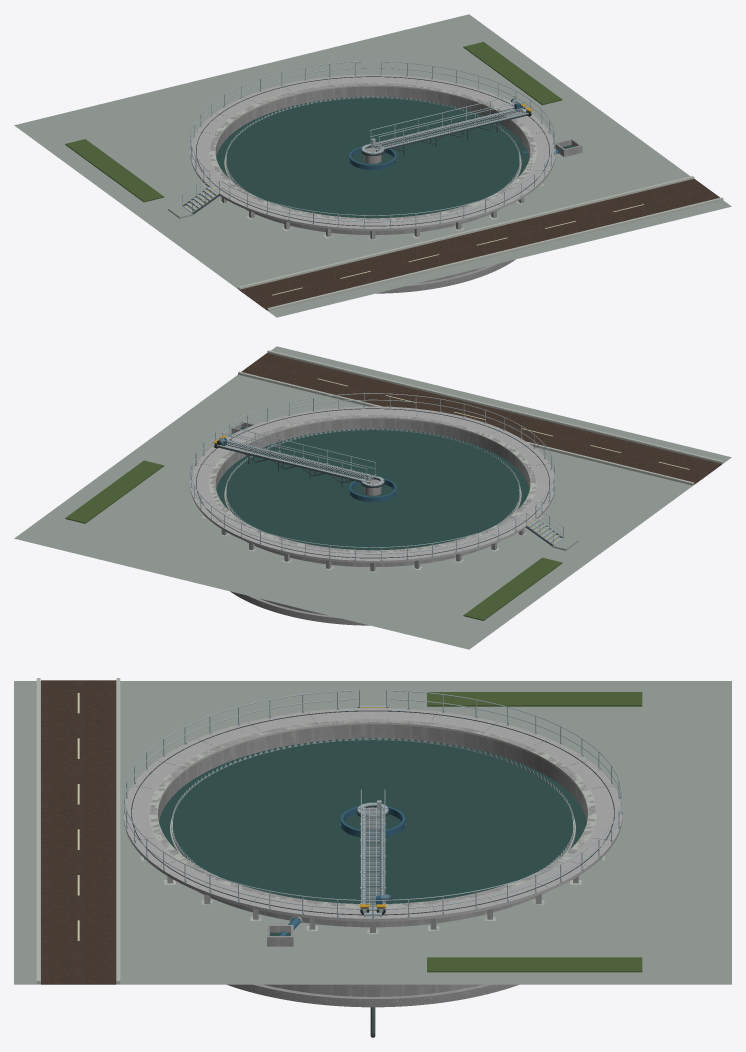
File: clarifier-tank.glb
The picture shows the model from 3 angles, top to bottom: view 1: azimuth 30°, elevation 25°; view 2: azimuth 150°, elevation 25°; view 3: azimuth 270°, elevation 25°; orthographic projection. The views are drawn at different scales.
Visible parts, largest first — view 1: SITE_Hardscape, WATER_Surface, SITE_Road, ACCESS_PerimeterDeck, STRUCT_CircularWall, SITE_Curbs, SITE_GreenStrip, STRUCT_Coping, SAFETY_PerimeterRails, MECH_PeripheralTrack, STRUCT_BaseEdge, MECH_DeckGrating (+4 smaller); view 2: SITE_Hardscape, WATER_Surface, SITE_Road, ACCESS_PerimeterDeck, STRUCT_CircularWall, SITE_GreenStrip, SITE_Curbs, STRUCT_Coping, SAFETY_PerimeterRails, MECH_PeripheralTrack, STRUCT_BaseEdge, SAFETY_BridgeRails (+4 smaller); view 3: SITE_Hardscape, WATER_Surface, SITE_Road, ACCESS_PerimeterDeck, STRUCT_CircularWall, SITE_GreenStrip, STRUCT_Coping, SAFETY_PerimeterRails, SITE_Curbs, STRUCT_BaseEdge, MECH_DeckGrating, MECH_PeripheralTrack (+5 smaller).
Boxes of the visible parts, x1,y1,x2,y2 form: SITE_Hardscape: [14, 14, 731, 317]; WATER_Surface: [216, 97, 573, 218]; SITE_Road: [239, 179, 719, 310]; ACCESS_PerimeterDeck: [190, 74, 555, 230]; STRUCT_CircularWall: [210, 83, 535, 283]; SITE_Curbs: [238, 176, 723, 311]; SITE_GreenStrip: [65, 42, 562, 202]; STRUCT_Coping: [209, 82, 536, 220]; SAFETY_PerimeterRails: [190, 61, 555, 222]; MECH_PeripheralTrack: [196, 76, 549, 226]; STRUCT_BaseEdge: [376, 259, 515, 293]; MECH_DeckGrating: [372, 109, 526, 148]; SITE_Hardscape: [14, 346, 731, 649]; WATER_Surface: [216, 427, 529, 550]; SITE_Road: [241, 353, 721, 484]; ACCESS_PerimeterDeck: [190, 406, 555, 562]; STRUCT_CircularWall: [210, 415, 535, 615]; SITE_GreenStrip: [65, 460, 562, 620]; SITE_Curbs: [238, 350, 723, 485]; STRUCT_Coping: [209, 414, 536, 552]; SAFETY_PerimeterRails: [190, 393, 555, 554]; MECH_PeripheralTrack: [196, 408, 549, 558]; STRUCT_BaseEdge: [230, 591, 369, 625]; SAFETY_BridgeRails: [220, 426, 376, 475]; SITE_Hardscape: [14, 681, 731, 984]; WATER_Surface: [159, 738, 586, 935]; SITE_Road: [41, 680, 116, 984]; ACCESS_PerimeterDeck: [123, 708, 622, 921]; STRUCT_CircularWall: [150, 719, 595, 996]; SITE_GreenStrip: [427, 692, 642, 972]; STRUCT_Coping: [149, 718, 596, 907]; SAFETY_PerimeterRails: [124, 690, 621, 909]; SITE_Curbs: [36, 678, 120, 984]; STRUCT_BaseEdge: [227, 984, 518, 1007]; MECH_DeckGrating: [361, 808, 384, 906]; MECH_PeripheralTrack: [131, 710, 614, 915].
Bounding box in the file's own units: 40 × 8.11 × 40.
Materials: 15 (4 with a texture image).
